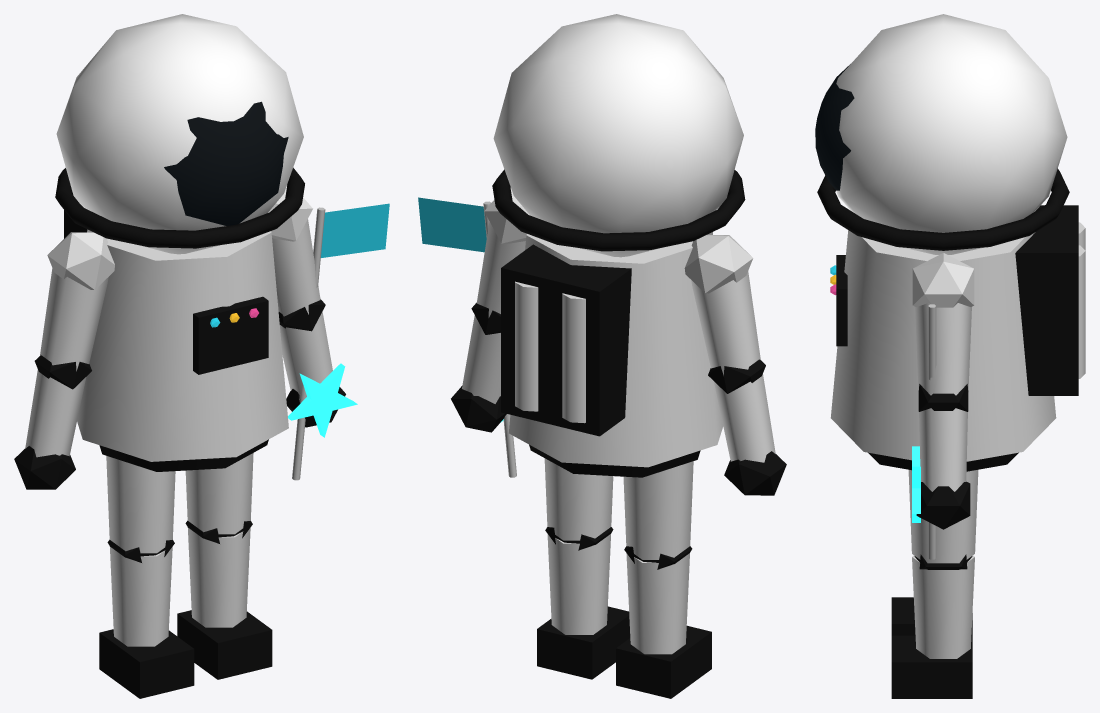
File: Astronaut.glb
3 renders of one model, left to right at view 1: azimuth 30°, elevation 25°; view 2: azimuth 150°, elevation 25°; view 3: azimuth 270°, elevation 25°, orthographic.
Visible parts, largest first — view 1: torso, helmet, leg_left, leg_right, arm_left, visor, arm_right, trim, chest_panel, flag, star, glove (+1 smaller); view 2: helmet, torso, leg_left, backpack, leg_right, arm_left, astronaut, arm_right, trim, flag, glove (×2), hip; view 3: helmet, torso, leg_right, arm_right, backpack, trim, visor, glove, astronaut, chest_panel, flag, leg_left (+2 smaller).
Part boxes in pixels (left/top/right/bottom): torso: left=77, top=229, right=288, bottom=461; helmet: left=56, top=14, right=303, bottom=254; leg_left: left=99, top=456, right=194, bottom=698; leg_right: left=177, top=453, right=272, bottom=679; arm_left: left=25, top=232, right=114, bottom=457; visor: left=164, top=101, right=288, bottom=225; arm_right: left=268, top=186, right=332, bottom=394; trim: left=55, top=167, right=304, bottom=248; chest_panel: left=193, top=296, right=268, bottom=374; flag: left=292, top=203, right=389, bottom=480; star: left=288, top=363, right=357, bottom=437; glove: left=14, top=446, right=75, bottom=489; helmet: left=493, top=14, right=743, bottom=257; torso: left=509, top=232, right=723, bottom=467; leg_left: left=616, top=461, right=711, bottom=698; backpack: left=501, top=244, right=631, bottom=436; leg_right: left=537, top=458, right=630, bottom=679; arm_left: left=684, top=235, right=775, bottom=462; astronaut: left=515, top=281, right=585, bottom=423; arm_right: left=462, top=187, right=529, bottom=403; trim: left=492, top=169, right=745, bottom=251; flag: left=418, top=197, right=516, bottom=477; glove (×2): left=451, top=386, right=786, bottom=495; hip: left=529, top=444, right=700, bottom=477; helmet: left=836, top=14, right=1067, bottom=254; torso: left=830, top=230, right=1056, bottom=461; leg_right: left=891, top=470, right=978, bottom=698; arm_right: left=912, top=253, right=974, bottom=491; backpack: left=1015, top=205, right=1078, bottom=395; trim: left=817, top=168, right=1069, bottom=250; visor: left=815, top=64, right=854, bottom=190; glove: left=916, top=481, right=970, bottom=529; astronaut: left=830, top=222, right=1085, bottom=378; chest_panel: left=836, top=255, right=847, bottom=346; flag: left=928, top=304, right=936, bottom=559; leg_left: left=891, top=597, right=972, bottom=635.
Bounding box in the file's own units: 1.86 × 3.14 × 1.2.
